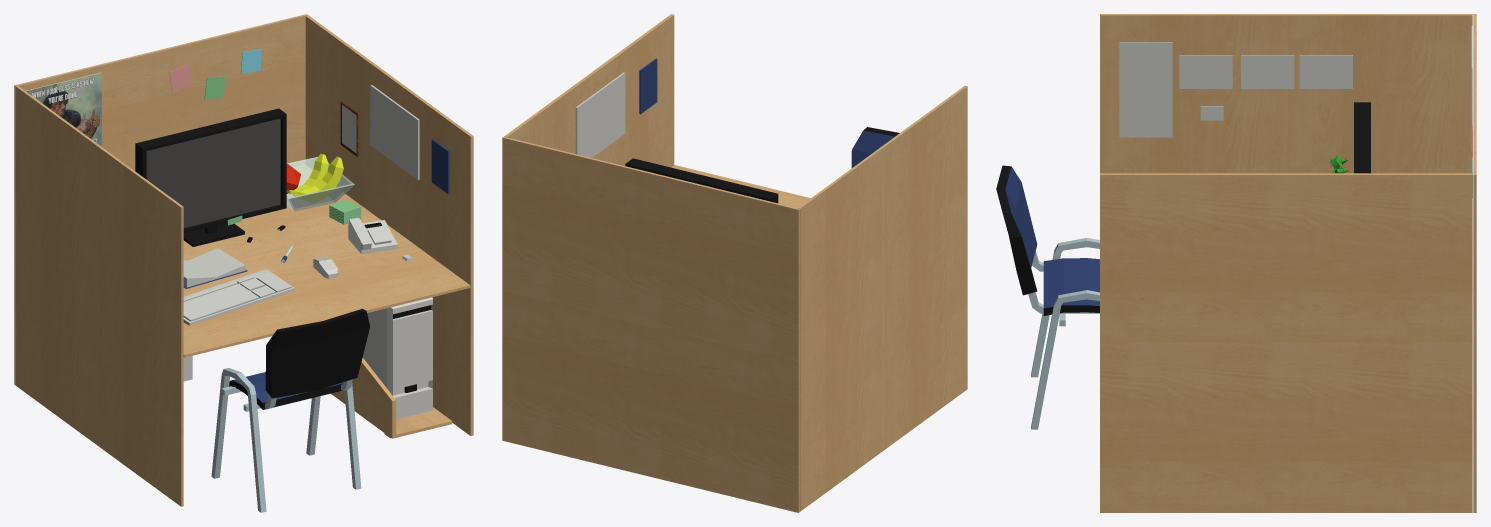
The model's file is low-poly_office.glb.
3 views of the same model, side by side, from view 1: azimuth 30°, elevation 25°; view 2: azimuth 150°, elevation 25°; view 3: azimuth 270°, elevation 25° (orthographic). The views are drawn at different scales.
Parts seen in each view (by area): view 1: office; view 2: office; view 3: office.
Boxes of the visible parts, box(x1,y1,x2,y2) form: office: box(14, 14, 473, 512); office: box(502, 14, 967, 512); office: box(996, 14, 1476, 512).
Size of the model in its own units: 0.1489 by 0.1457 by 0.1877.
16 materials, 3 textured.
